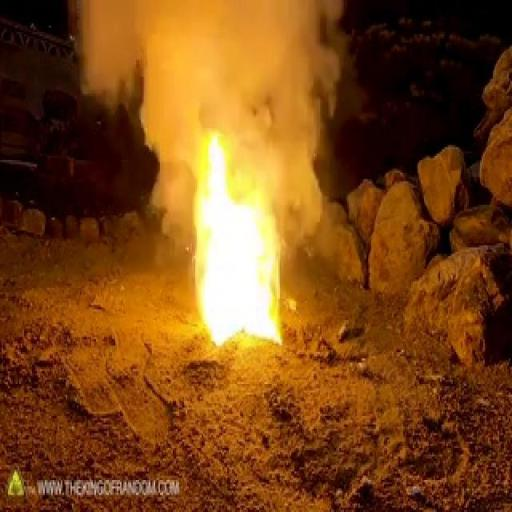smoke: (206, 194, 312, 326)
